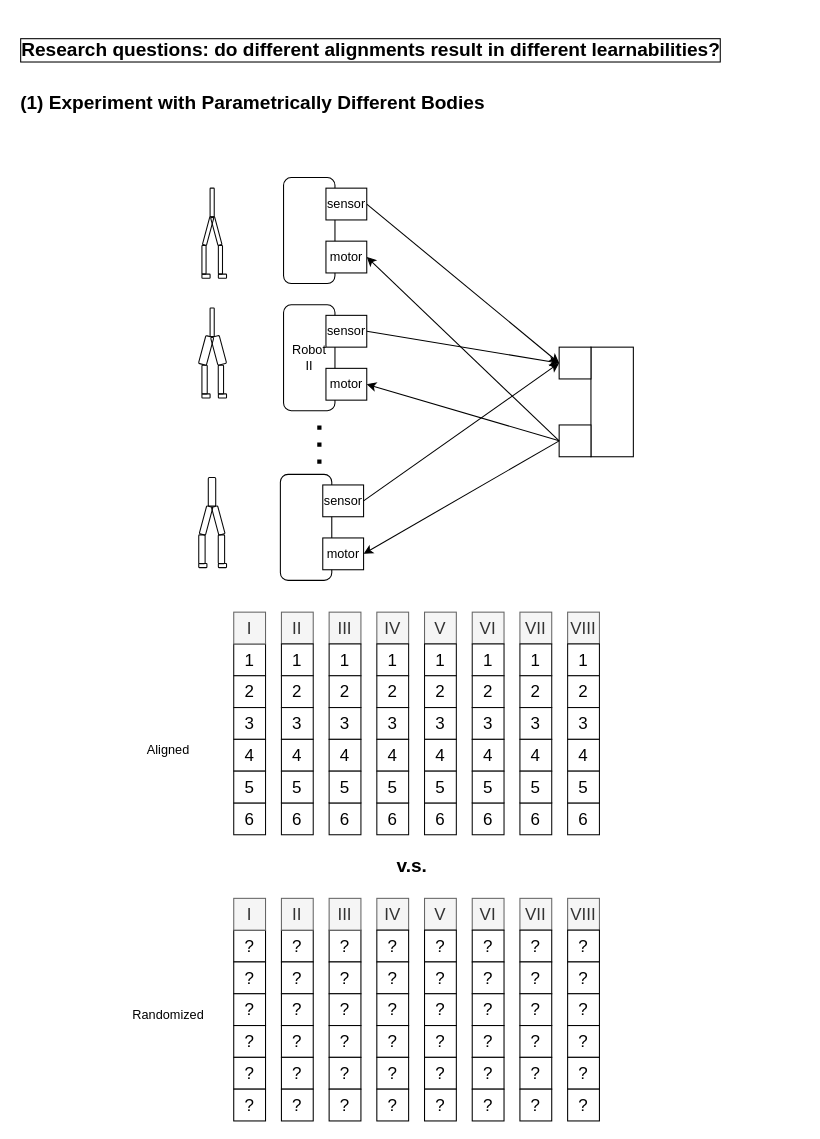
This 820x1139 diagram has some shape labels left out. Here are the shapes that lost their labels. From the top down, the box of each, then its label:
(282, 176, 335, 284): Robot I
(558, 346, 591, 379): in
(590, 346, 633, 457): Shared Policy
(558, 424, 591, 457): out
(279, 473, 332, 580): Robot VIII
